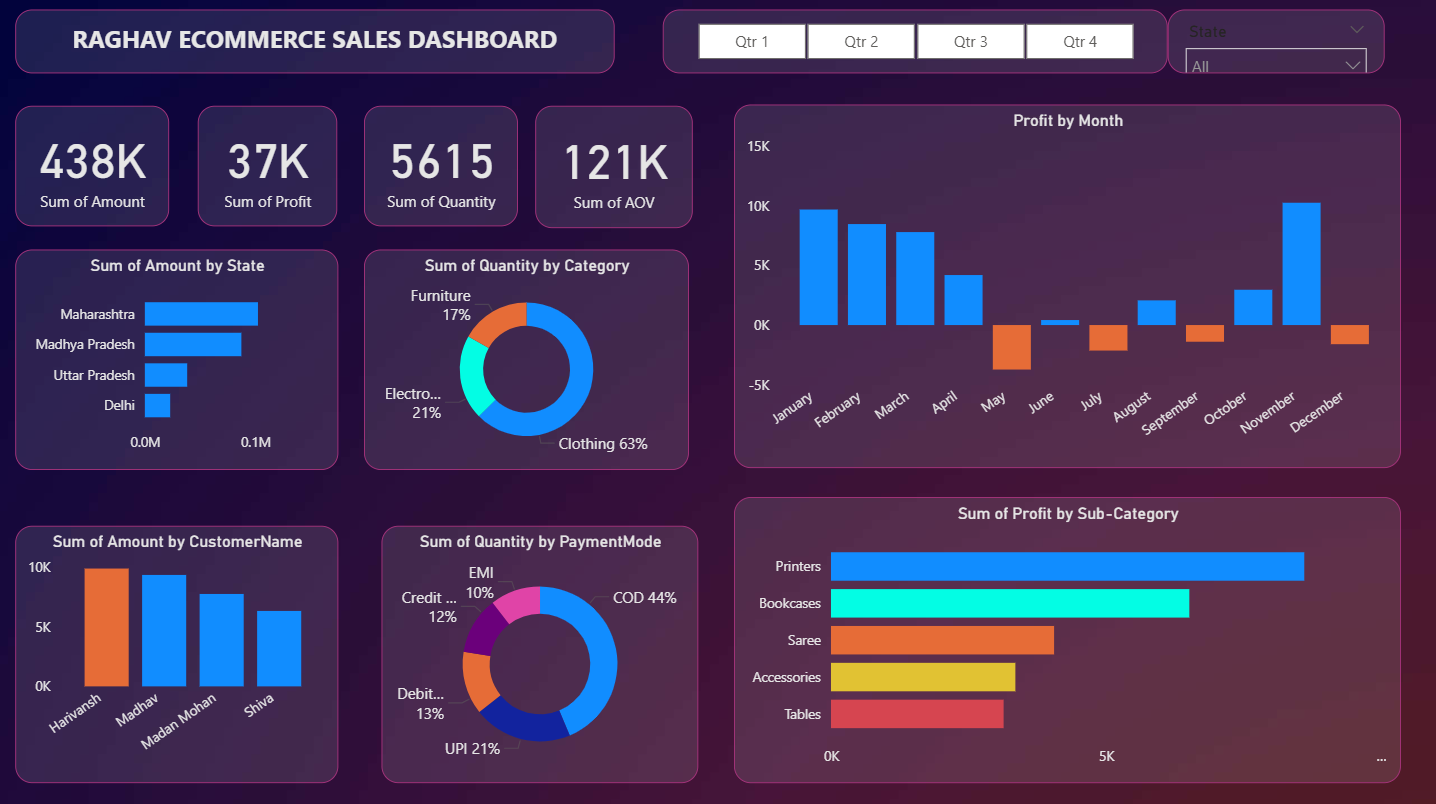

This screenshot's page, from the dashboard's own definition file:
{"tool":"powerbi","page":{"name":"Page 1","canvas":[1280,720],"ordinal":0},"visuals":[{"type":"textbox","box":[14.3,11.4,532.9,57.1],"z":0},{"type":"columnChart","title":"Profit by Month","fields":{"Y":["Details.Profit"],"Category":["Orders.Order Date.Variation.Date Hierarchy.Month"]},"box":[652.9,95.7,592.9,322.9],"z":1000},{"type":"barChart","fields":{"Category":["Details.Sub-Category"],"Y":["Details.Profit"]},"box":[652.9,444.3,592.9,254.3],"z":2000},{"type":"donutChart","fields":{"Category":["Details.Category"],"Y":["Details.Quantity"]},"box":[324.3,224.3,288.6,195.7],"z":3000},{"type":"donutChart","fields":{"Category":["Details.PaymentMode","Details.Category"],"Y":["Details.Quantity"]},"box":[340,470,281.4,228.6],"z":4000},{"type":"card","fields":{"Values":["Details.Amount"]},"box":[14.3,97.1,137.1,107.1],"z":5000},{"type":"card","fields":{"Values":["Details.Profit"]},"box":[177.1,97.1,124.3,107.1],"z":6000},{"type":"card","fields":{"Values":["Details.Quantity"]},"box":[324.3,97.1,137.1,107.1],"z":7000},{"type":"card","fields":{"Values":["Details.AOV"]},"box":[477.1,97.1,140,108.6],"z":8000},{"type":"barChart","fields":{"Category":["Orders.State"],"Y":["Details.Amount"]},"box":[14.3,224.3,287.1,195.7],"z":9000},{"type":"columnChart","fields":{"Category":["Orders.CustomerName"],"Y":["Details.Amount"]},"box":[14.3,470,287.1,228.6],"z":10000},{"type":"slicer","fields":{"Values":["Orders.Order Date.Variation.Date Hierarchy.Quarter"]},"box":[590,11.4,448.6,57.1],"z":11000},{"type":"slicer","fields":{"Values":["Orders.State"]},"box":[1038.6,11.4,192.9,57.1],"z":11001}]}

Visuals, with their boxes in screenshot pixels (x1, y1, x2, y2), scaled from the page's 1280x720 canvas onto the 1436x804 screenshot:
textbox: [x1=16, y1=13, x2=614, y2=76]
"Profit by Month" columnChart: [x1=732, y1=107, x2=1398, y2=467]
barChart - Details.Sub-Category x Details.Profit: [x1=732, y1=496, x2=1398, y2=780]
donutChart - Details.Category x Details.Quantity: [x1=364, y1=250, x2=688, y2=469]
donutChart - Details.PaymentMode x Details.Category: [x1=381, y1=525, x2=697, y2=780]
card - Details.Amount: [x1=16, y1=108, x2=170, y2=228]
card - Details.Profit: [x1=199, y1=108, x2=338, y2=228]
card - Details.Quantity: [x1=364, y1=108, x2=518, y2=228]
card - Details.AOV: [x1=535, y1=108, x2=692, y2=230]
barChart - Orders.State x Details.Amount: [x1=16, y1=250, x2=338, y2=469]
columnChart - Orders.CustomerName x Details.Amount: [x1=16, y1=525, x2=338, y2=780]
slicer - Orders.Order Date.Variation.Date Hierarchy.Quarter: [x1=662, y1=13, x2=1165, y2=76]
slicer - Orders.State: [x1=1165, y1=13, x2=1382, y2=76]
